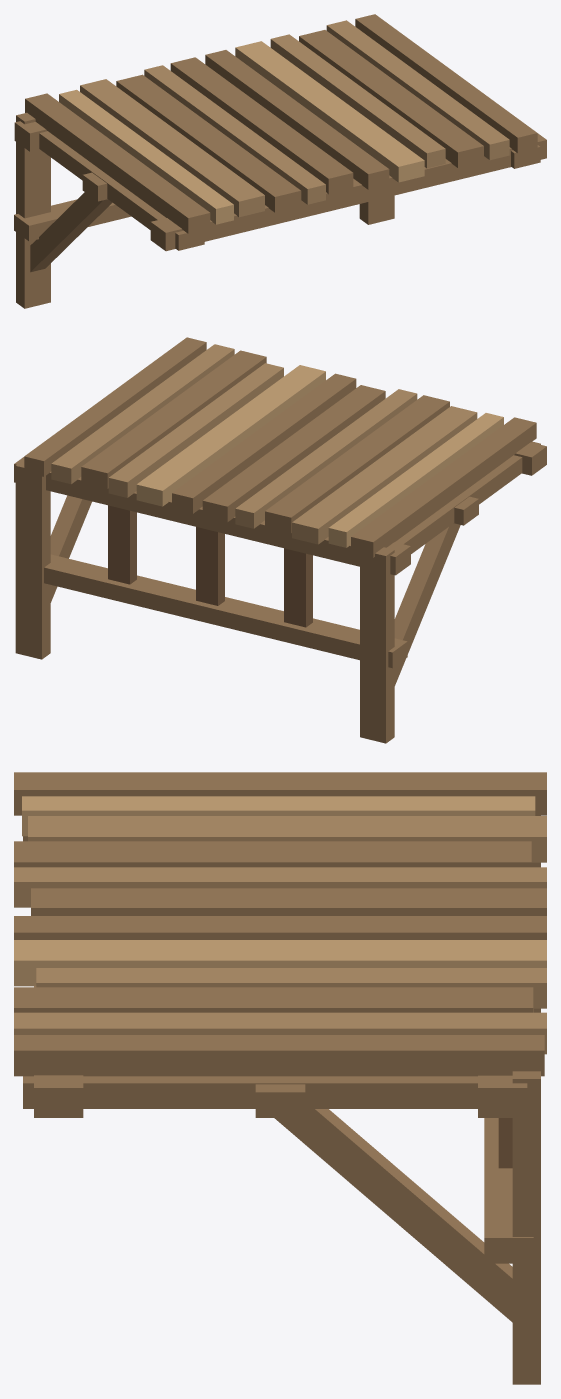
Rendered from SM_Bridge_Wooden_02_C.fbx.
3 renders of one model, top to bottom at view 1: azimuth 30°, elevation 25°; view 2: azimuth 150°, elevation 25°; view 3: azimuth 270°, elevation 25°, orthographic. The views are drawn at different scales.
Parts seen in each view (by area): view 1: pCube160; view 2: pCube160; view 3: pCube160.
Boxes of the visible parts, left/top/right/bottom form: pCube160: left=14, top=14, right=546, bottom=308; pCube160: left=14, top=337, right=546, bottom=743; pCube160: left=14, top=772, right=546, bottom=1384.
Size of the model in its own units: 203 by 102 by 151.
Materials: 1 (1 with a texture image).
